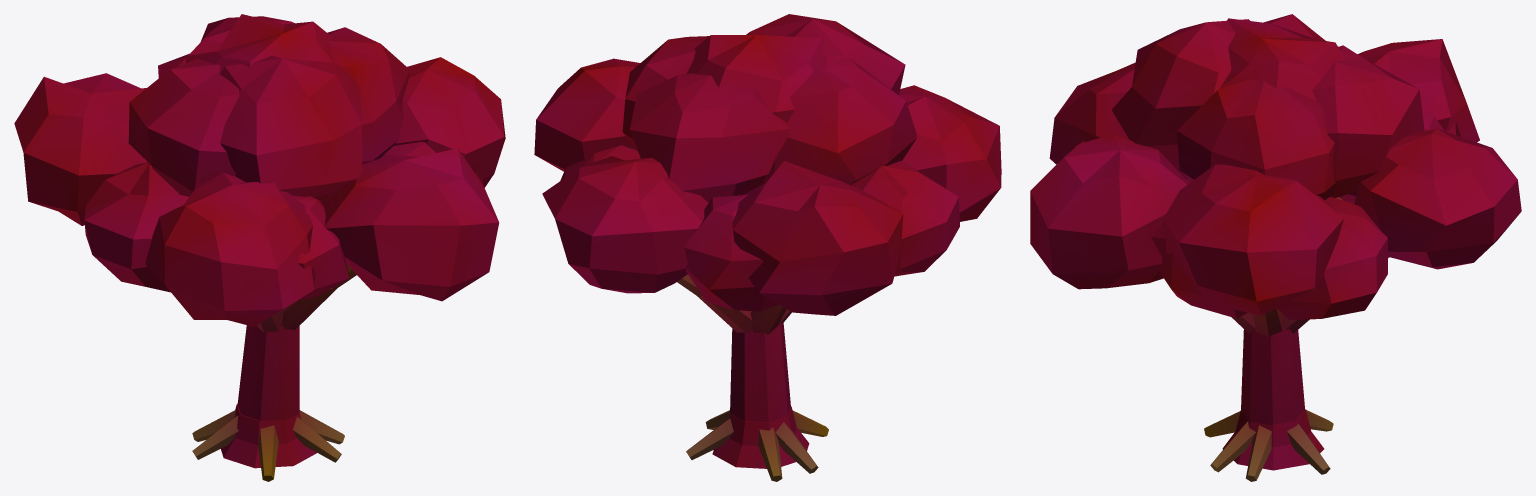
File: Tree_Oak_Giant_01.glb
3 renders of one model, left to right at view 1: azimuth 30°, elevation 25°; view 2: azimuth 150°, elevation 25°; view 3: azimuth 270°, elevation 25°, orthographic.
Visible parts, largest first — view 1: Tree_Oak_Giant_01; view 2: Tree_Oak_Giant_01; view 3: Tree_Oak_Giant_01.
Boxes of the visible parts, left/top/right/bottom form: Tree_Oak_Giant_01: left=14, top=14, right=505, bottom=481; Tree_Oak_Giant_01: left=534, top=14, right=1001, bottom=481; Tree_Oak_Giant_01: left=1030, top=14, right=1521, bottom=481.
Size of the model in its own units: 9.02 by 8.74 by 9.24.
